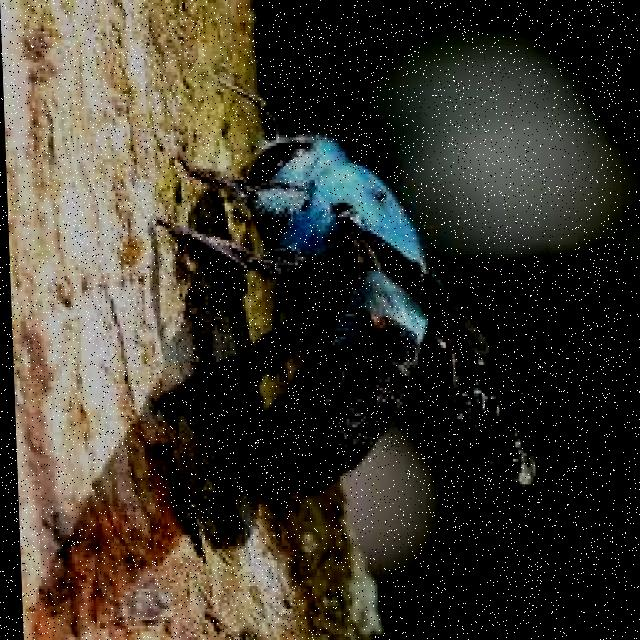Xylocopa: (151, 63, 557, 526)
